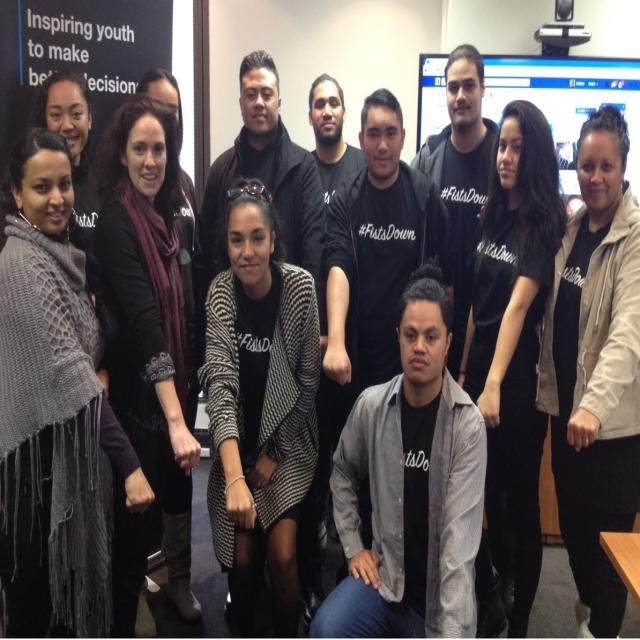body: (0, 124, 156, 639), (306, 276, 488, 639), (451, 96, 569, 640), (90, 93, 206, 640), (534, 100, 640, 639), (202, 175, 322, 640), (192, 44, 328, 384), (132, 68, 207, 637), (321, 86, 449, 386), (409, 43, 508, 259), (26, 65, 107, 289), (302, 70, 372, 225)
